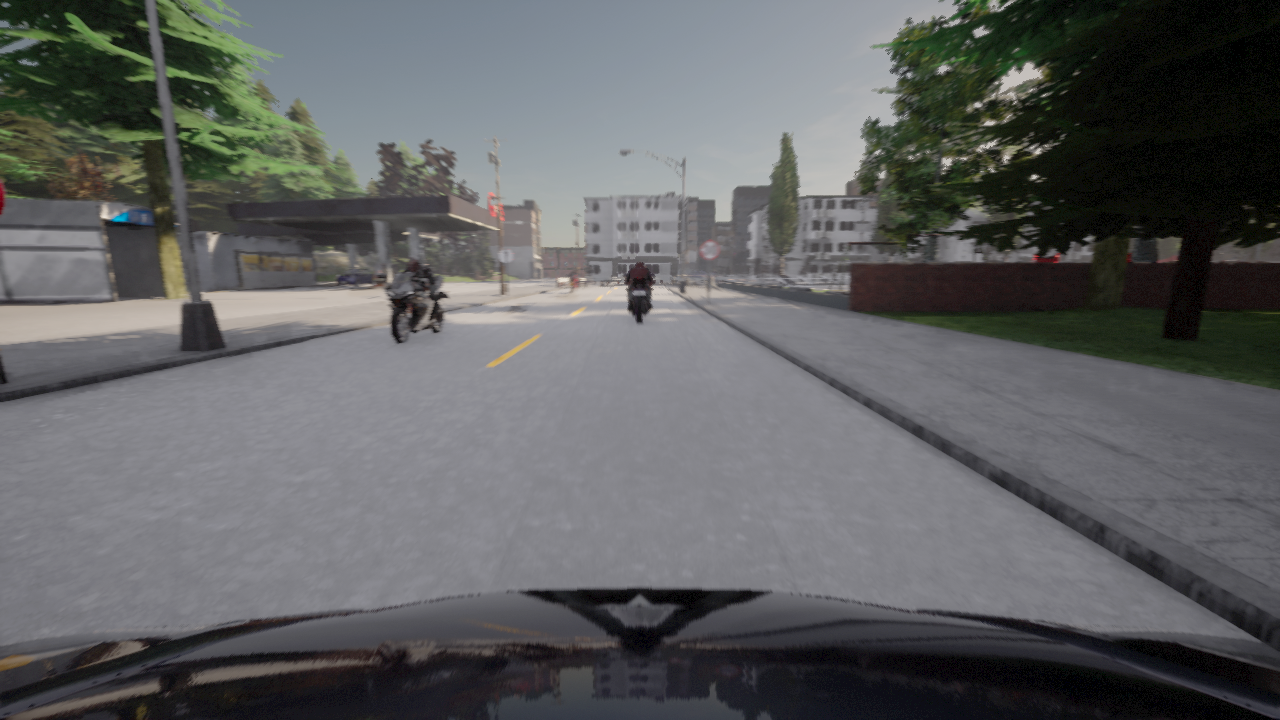cyclist: (0, 588, 1279, 719), (378, 272, 450, 343), (624, 273, 655, 322), (336, 269, 374, 286), (566, 274, 580, 292), (688, 271, 706, 276), (585, 278, 593, 286), (710, 272, 723, 276)
